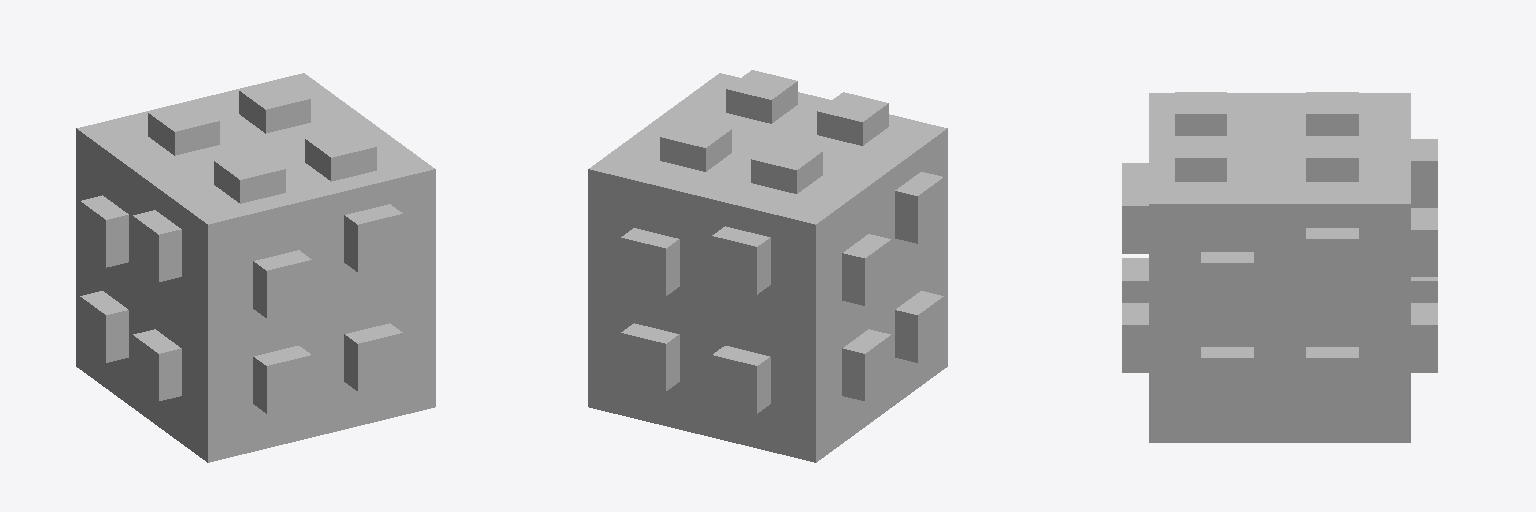
File: mixedgemsblock.obj
3 views of the same model, side by side, from view 1: azimuth 30°, elevation 25°; view 2: azimuth 150°, elevation 25°; view 3: azimuth 270°, elevation 25° (orthographic).
Parts seen in each view (by area): view 1: Stone Block, emerald, amethyst, quartz, diamond; view 2: Stone Block, amethyst, emerald, diamond, quartz; view 3: Stone Block, emerald, diamond, quartz, amethyst.
Part boxes in pixels (left/top/right/bottom): Stone Block: left=76, top=73, right=435, bottom=462; emerald: left=133, top=150, right=402, bottom=281; amethyst: left=80, top=128, right=376, bottom=317; quartz: left=133, top=102, right=402, bottom=400; diamond: left=80, top=80, right=311, bottom=413; Stone Block: left=588, top=73, right=947, bottom=462; amethyst: left=621, top=70, right=890, bottom=305; emerald: left=712, top=92, right=943, bottom=294; diamond: left=621, top=118, right=890, bottom=400; quartz: left=712, top=140, right=943, bottom=413; Stone Block: left=1149, top=93, right=1410, bottom=442; emerald: left=1122, top=92, right=1437, bottom=286; diamond: left=1122, top=136, right=1437, bottom=405; quartz: left=1122, top=92, right=1437, bottom=405; amethyst: left=1122, top=136, right=1437, bottom=310.
Size of the model in its own units: 0.75 by 0.6875 by 0.75.